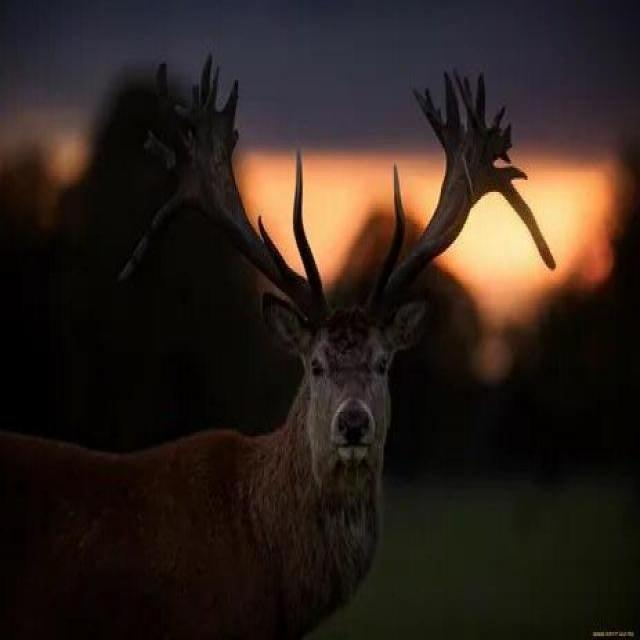deer: (92, 101, 548, 640)
